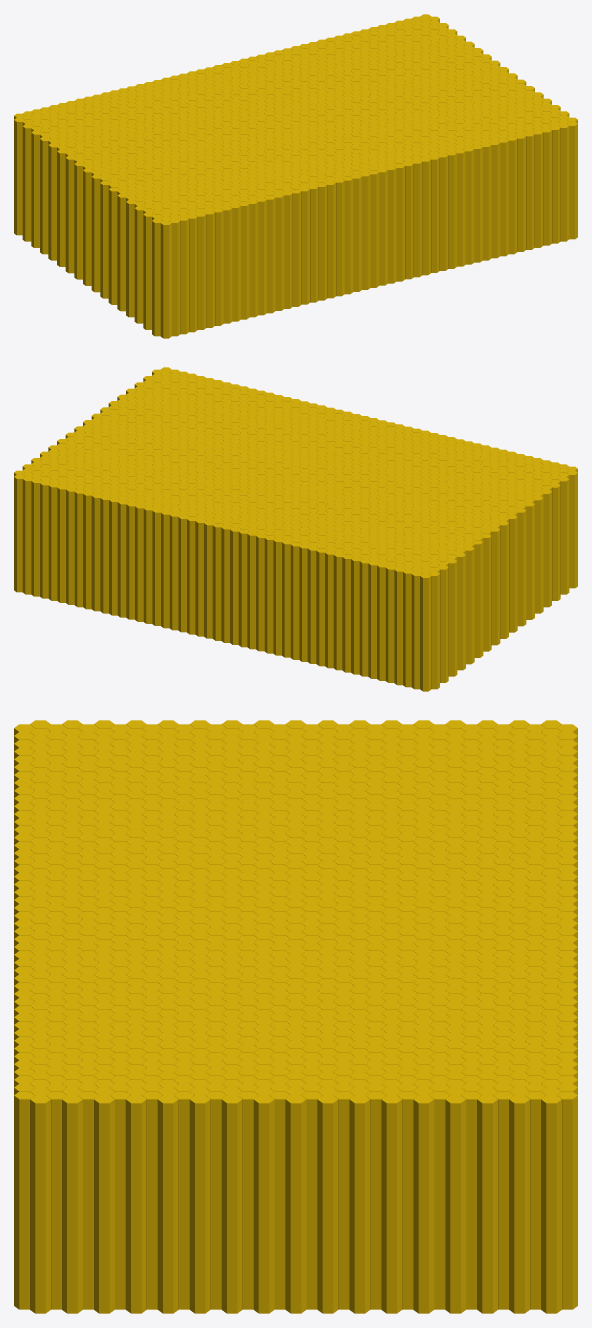
File: SA_Hexagon.fbx
The picture shows the model from 3 angles, top to bottom: view 1: azimuth 30°, elevation 25°; view 2: azimuth 150°, elevation 25°; view 3: azimuth 270°, elevation 25°; orthographic projection. The views are drawn at different scales.
Parts seen in each view (by area): view 1: SA_Hexagon; view 2: SA_Hexagon; view 3: SA_Hexagon.
Boxes of the visible parts, box(x1,y1,x2,y2) form: SA_Hexagon: box(14, 14, 577, 338); SA_Hexagon: box(14, 367, 577, 691); SA_Hexagon: box(14, 720, 577, 1313).
Size of the model in its own units: 4311 by 1105 by 2684.
